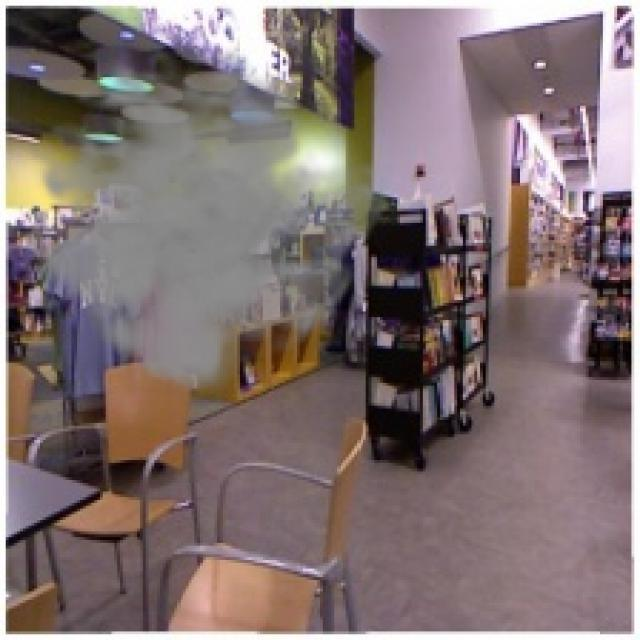Smoke: (2, 46, 394, 397)
